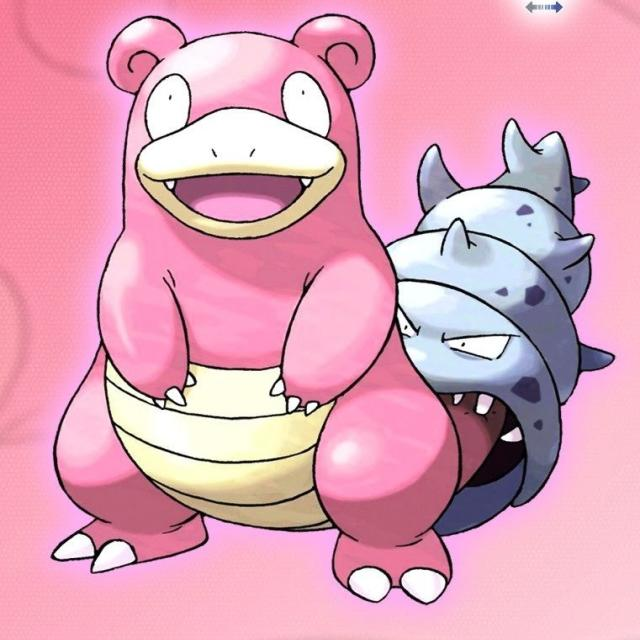Slowbro: (24, 21, 564, 601)
